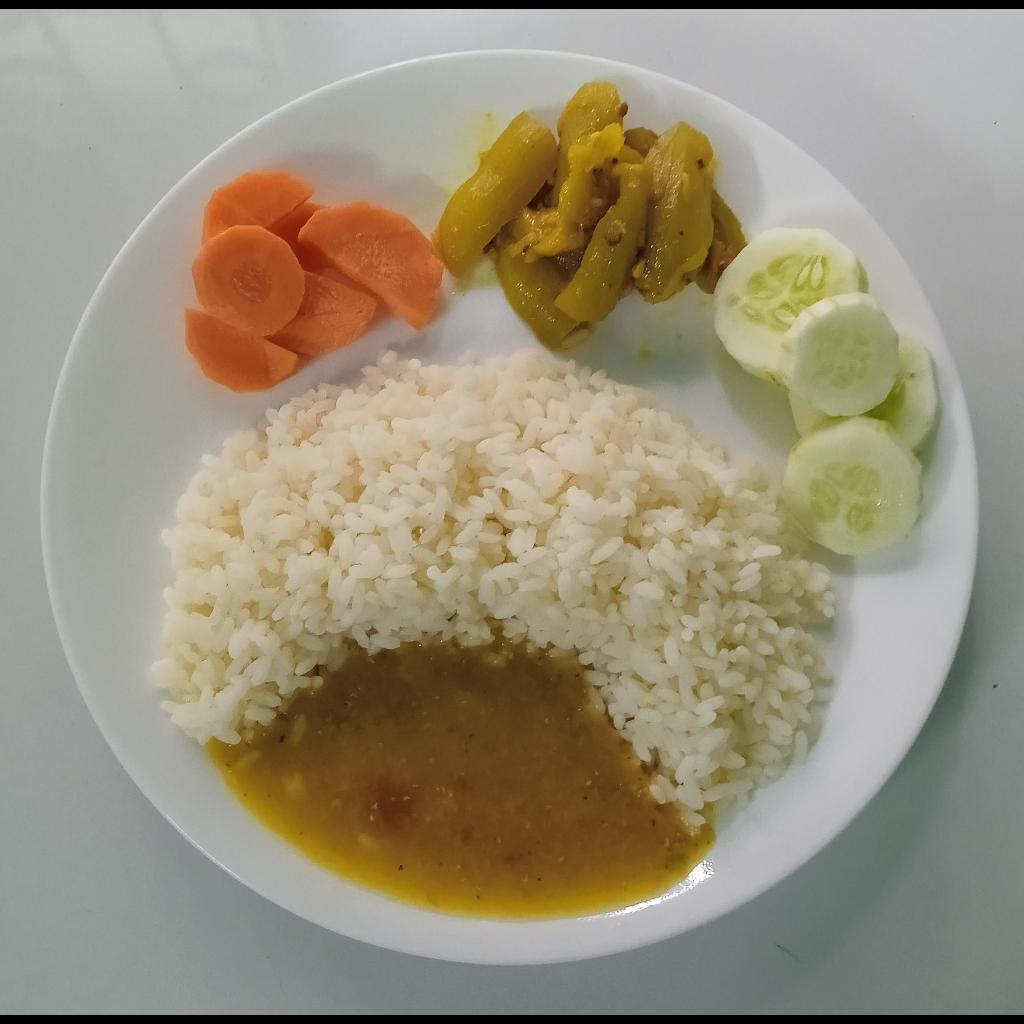carrot: (181, 169, 444, 395)
cucumber: (706, 227, 941, 561)
daal: (218, 641, 713, 915)
potol: (433, 84, 749, 351)
rice: (148, 348, 840, 832)
